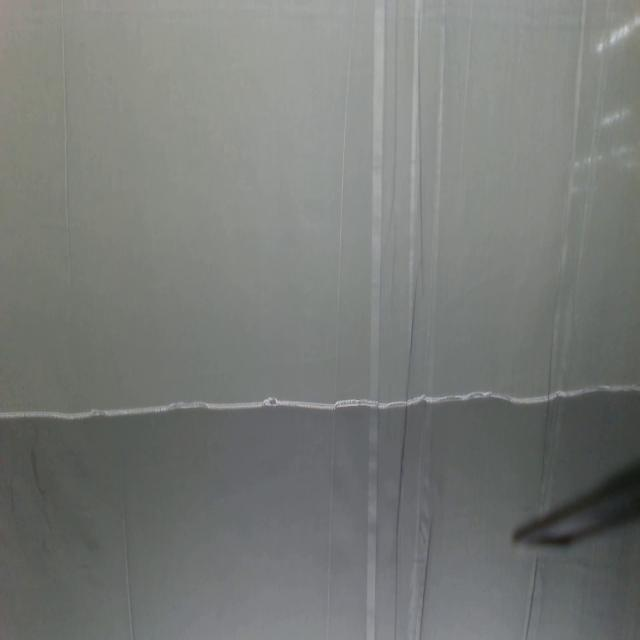crease: (540, 0, 609, 478), (323, 0, 360, 632), (366, 0, 396, 639), (397, 0, 431, 528), (58, 2, 76, 284), (406, 522, 436, 640), (119, 466, 137, 640), (516, 554, 543, 636)
